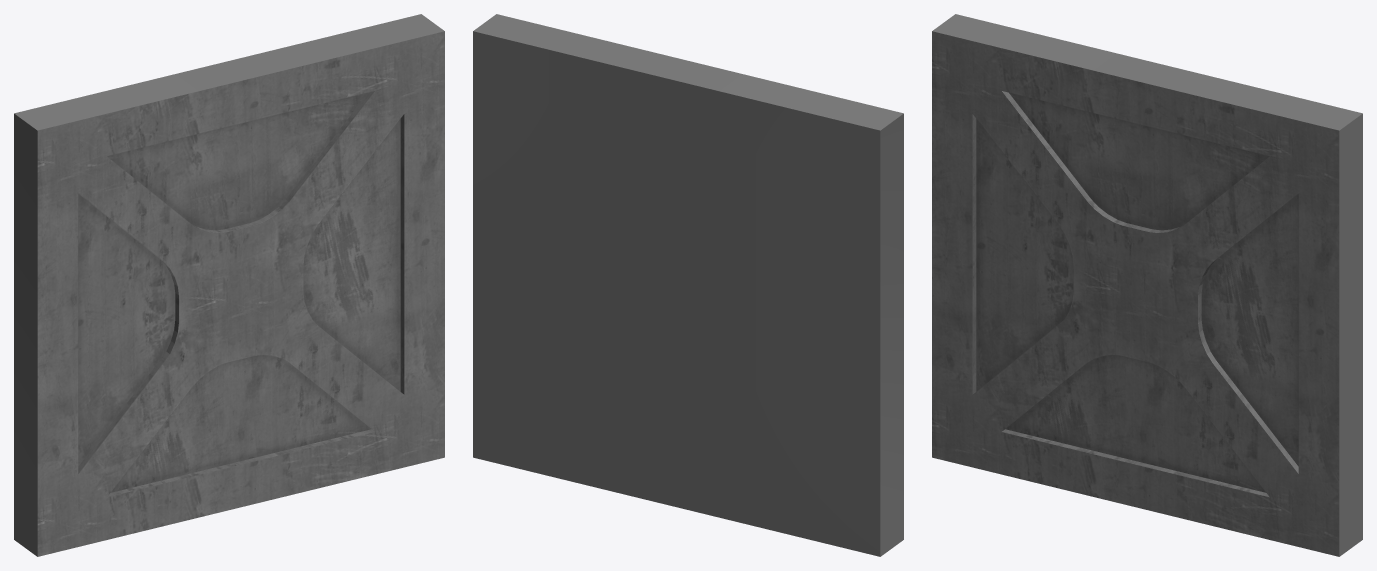
File: reinforced_metal_wall2.glb
3 views of the same model, side by side, from view 1: azimuth 30°, elevation 25°; view 2: azimuth 150°, elevation 25°; view 3: azimuth 330°, elevation 25° (orthographic).
Visible parts, largest first — view 1: reinforced_panel_high; view 2: reinforced_panel_high; view 3: reinforced_panel_high.
Boxes of the visible parts, <box> form: reinforced_panel_high: <box>14,14,444,556</box>; reinforced_panel_high: <box>473,14,903,556</box>; reinforced_panel_high: <box>932,14,1362,556</box>.
Bounding box in the file's own units: 2 × 2 × 0.2001.
1 material, 1 textured.
